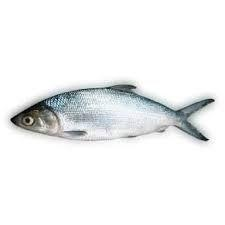Bangus: (10, 81, 217, 148)
